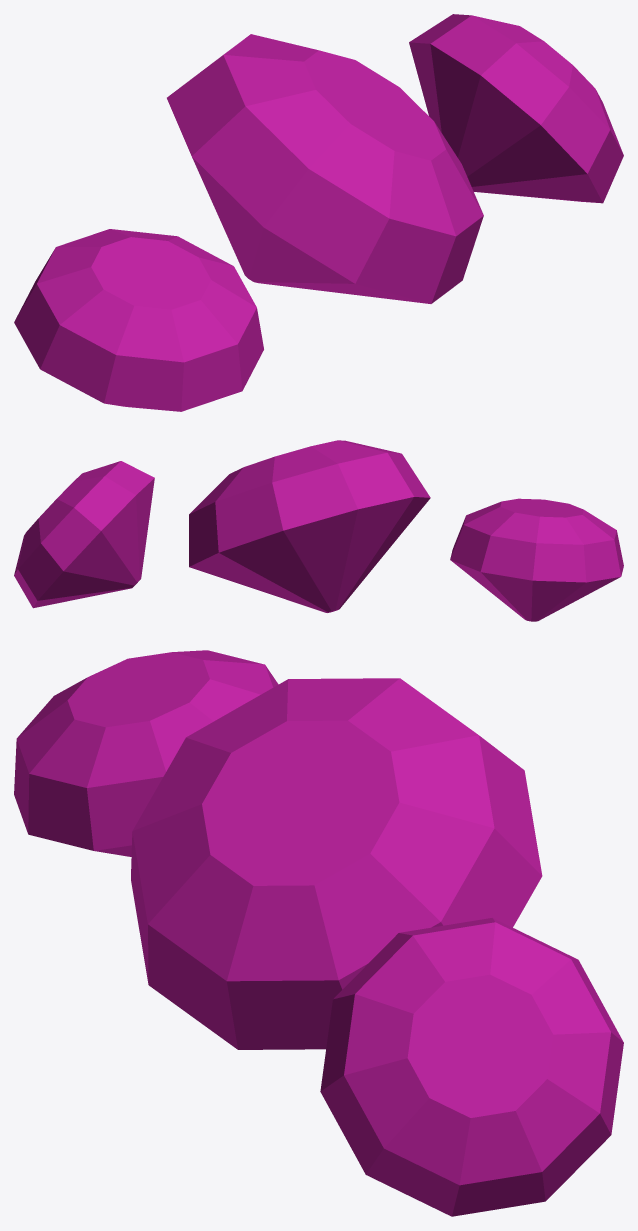
The picture shows the model from 3 angles, top to bottom: view 1: azimuth 30°, elevation 25°; view 2: azimuth 150°, elevation 25°; view 3: azimuth 270°, elevation 25°; orthographic projection. The views are drawn at different scales.
Parts seen in each view (by area): view 1: TI037 / individually faceted stone 1, TI037 / individually faceted stone 0, TI037 / individually faceted stone 2; view 2: TI037 / individually faceted stone 1, TI037 / individually faceted stone 0, TI037 / individually faceted stone 2; view 3: TI037 / individually faceted stone 1, TI037 / individually faceted stone 2, TI037 / individually faceted stone 0.
Part boxes in pixels (left/top/right/bottom): TI037 / individually faceted stone 1: left=167, top=34, right=483, bottom=303; TI037 / individually faceted stone 0: left=14, top=229, right=263, bottom=411; TI037 / individually faceted stone 2: left=409, top=14, right=623, bottom=203; TI037 / individually faceted stone 1: left=189, top=440, right=430, bottom=612; TI037 / individually faceted stone 0: left=450, top=498, right=623, bottom=621; TI037 / individually faceted stone 2: left=14, top=461, right=154, bottom=608; TI037 / individually faceted stone 1: left=131, top=678, right=542, bottom=1049; TI037 / individually faceted stone 2: left=320, top=918, right=623, bottom=1216; TI037 / individually faceted stone 0: left=14, top=650, right=278, bottom=856.
Bounding box in the file's own units: 2.54 × 0.8889 × 1.57.
